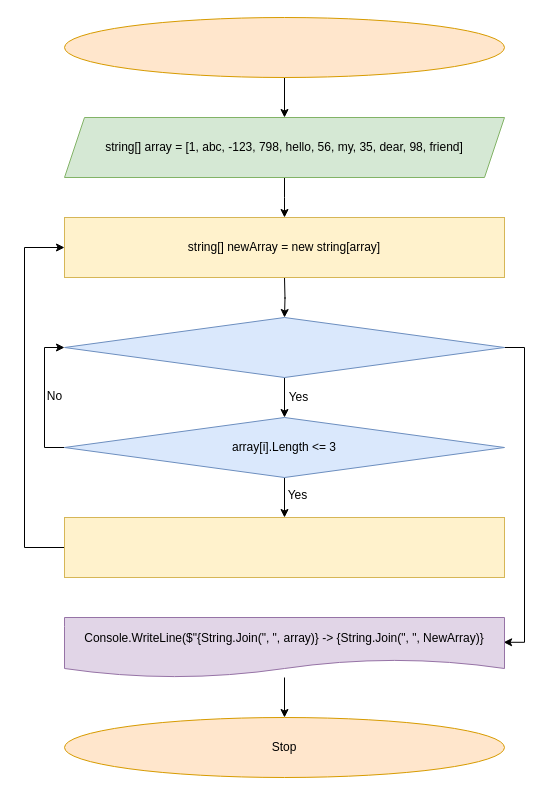
This 550x795 diagram has some shape labels left out. The centre of each missing label's shape, as x and y in pixels:
"for (int i = 0; i < array.Length; i++)" goes at pixel 284 347.
"newArray[i] = array[i]" goes at pixel 284 547.
"Start" goes at pixel 284 47.
